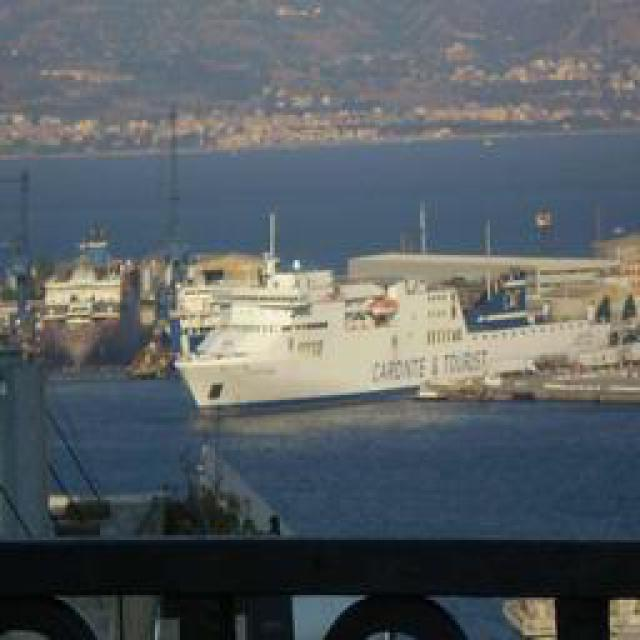Ship: (182, 263, 575, 418)
